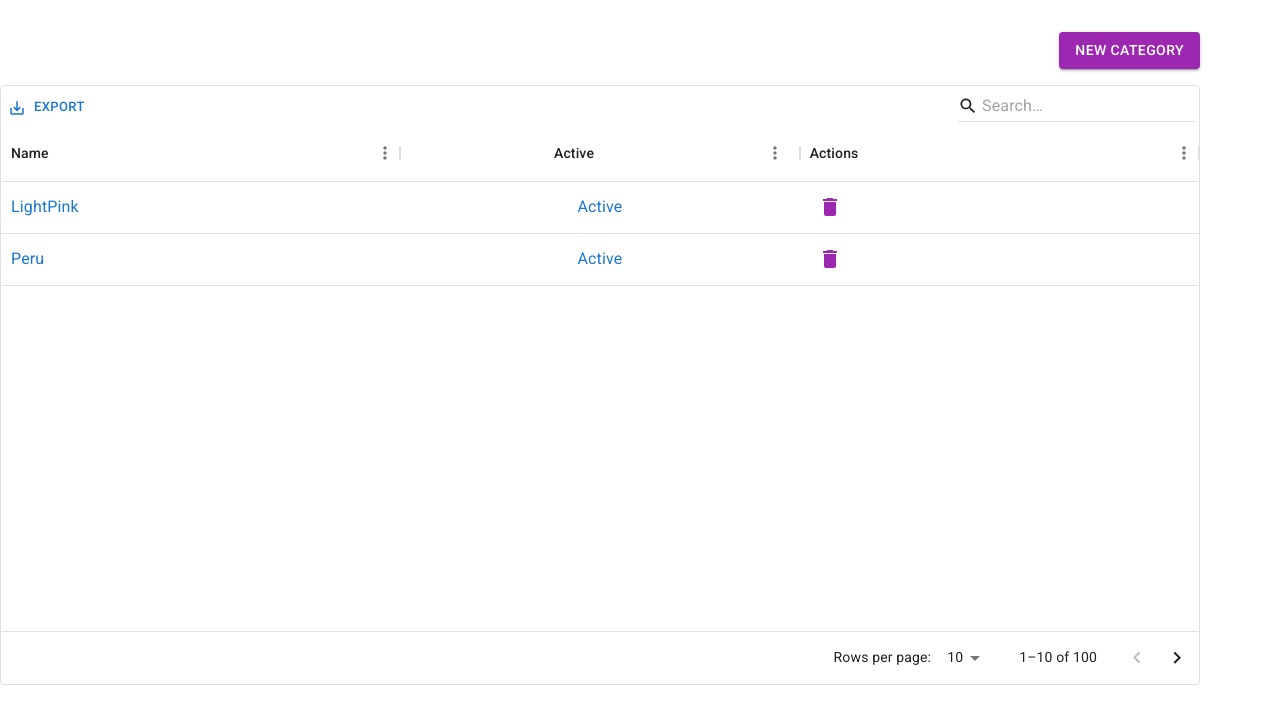
Test case: ListCategory › should handle delete category success
Expected: the text "LightPink" is shown, 11,195 -> 79,219
Click the button with test id "delete-button" in the row of "LightPink". click: (830, 207)
box: 810,187 -> 850,227
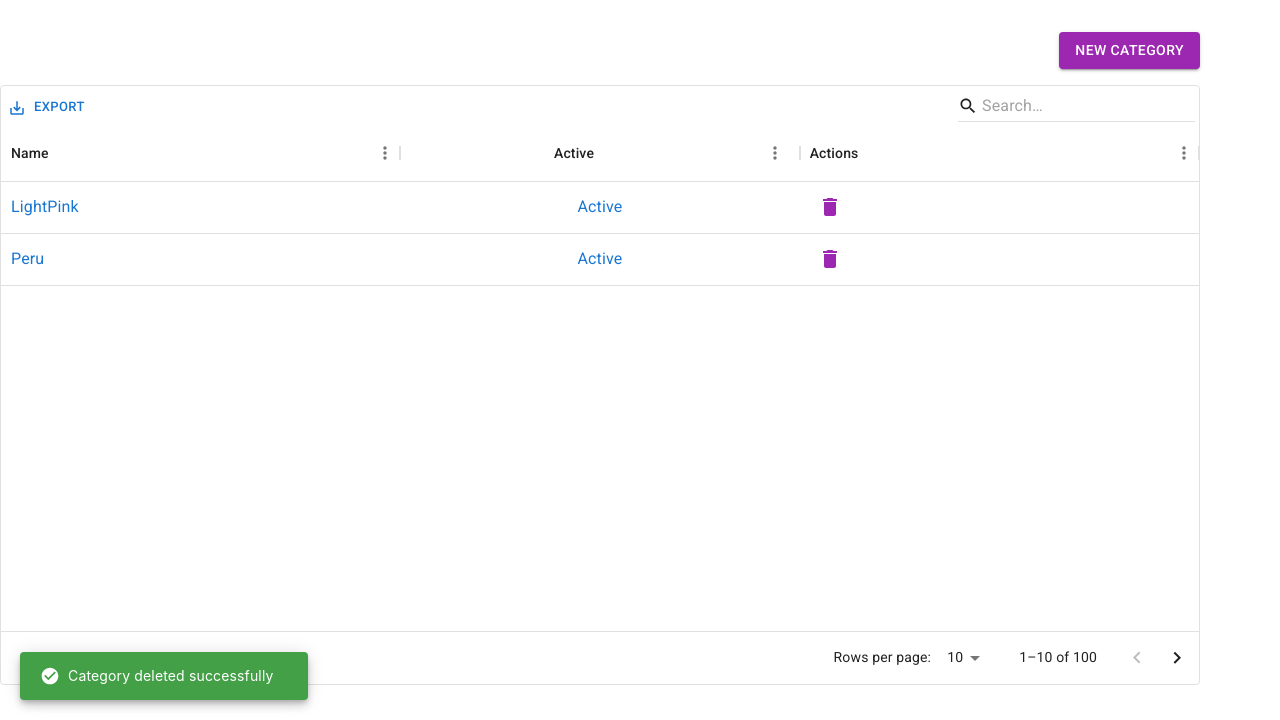
Now the text "Category deleted successfully" is shown, box 40,666 -> 274,686
